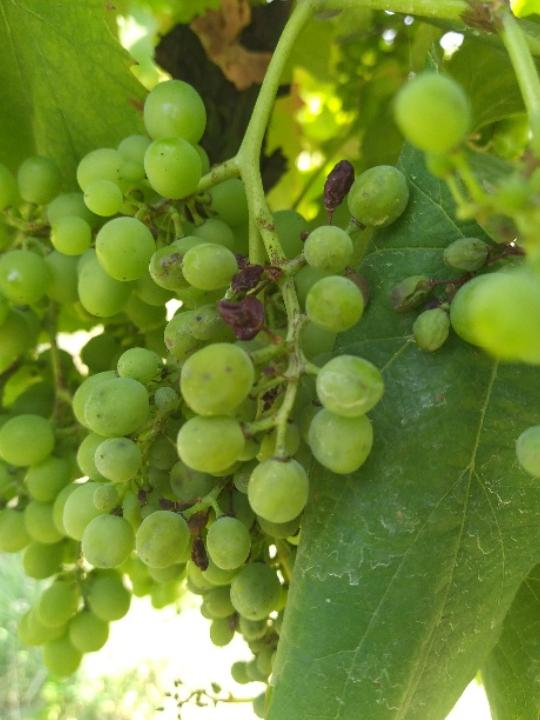grape: (69, 75, 411, 627)
